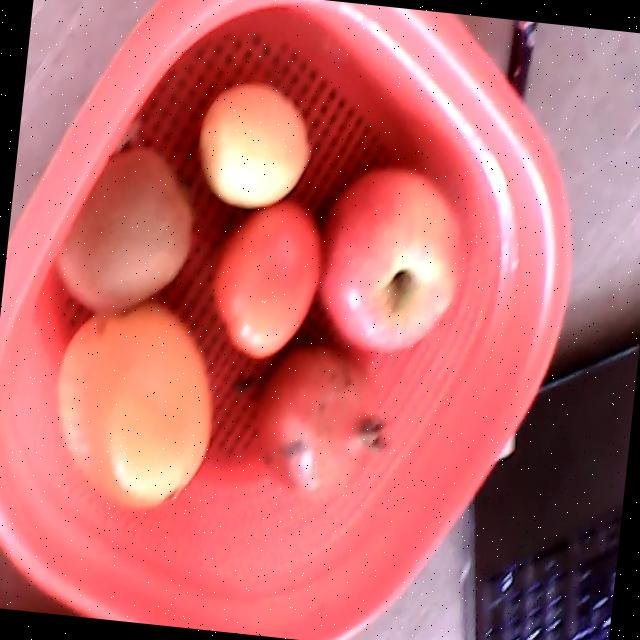apple: (317, 159, 463, 351)
kiwi: (57, 143, 193, 315)
lemon: (195, 79, 311, 208)
orange: (57, 292, 215, 509)
pomegranate: (254, 342, 386, 503)
tomato: (208, 194, 321, 360)
